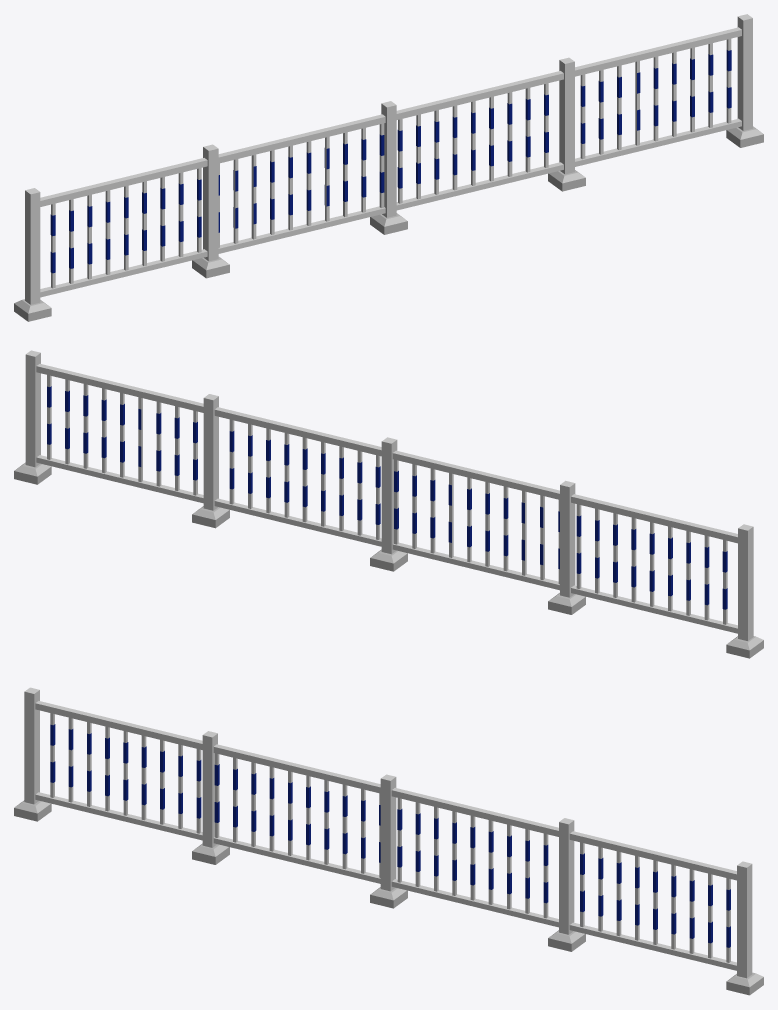
The model's file is weilanlanse.fbx.
3 views of the same model, one above another, from view 1: azimuth 30°, elevation 25°; view 2: azimuth 150°, elevation 25°; view 3: azimuth 330°, elevation 25° (orthographic).
Parts seen in each view (by area): view 1: Rectangle6473, Rectangle6472, Rectangle6474, Rectangle6348, Rectangle6350, Rectangle6351, Rectangle6349, Rectangle6475, Rectangle6359, Rectangle6355, Rectangle6356, Rectangle6357; view 2: Rectangle6473, Rectangle6472, Rectangle6474, Rectangle6350, Rectangle6351, Rectangle6348, Rectangle6349, Rectangle6475, Rectangle6359, Rectangle6355, Rectangle6356, Rectangle6357; view 3: Rectangle6473, Rectangle6472, Rectangle6349, Rectangle6351, Rectangle6474, Rectangle6350, Rectangle6348, Rectangle6359, Rectangle6355, Rectangle6475, Rectangle6356, Rectangle6357.
Boxes of the visible parts, left/top/right/bottom form: Rectangle6473: left=40, top=27, right=741, bottom=206; Rectangle6472: left=40, top=118, right=741, bottom=297; Rectangle6474: left=25, top=188, right=40, bottom=304; Rectangle6348: left=203, top=144, right=218, bottom=261; Rectangle6350: left=559, top=57, right=574, bottom=174; Rectangle6351: left=737, top=14, right=752, bottom=130; Rectangle6349: left=381, top=101, right=396, bottom=217; Rectangle6475: left=14, top=299, right=51, bottom=321; Rectangle6359: left=726, top=126, right=763, bottom=147; Rectangle6355: left=192, top=257, right=229, bottom=278; Rectangle6356: left=370, top=213, right=407, bottom=234; Rectangle6357: left=548, top=170, right=585, bottom=191; Rectangle6473: left=36, top=363, right=737, bottom=543; Rectangle6472: left=36, top=455, right=737, bottom=633; Rectangle6474: left=738, top=524, right=753, bottom=640; Rectangle6350: left=203, top=394, right=218, bottom=510; Rectangle6351: left=25, top=350, right=40, bottom=467; Rectangle6348: left=560, top=480, right=575, bottom=597; Rectangle6349: left=381, top=437, right=397, bottom=554; Rectangle6475: left=726, top=636, right=763, bottom=658; Rectangle6359: left=14, top=462, right=51, bottom=484; Rectangle6355: left=548, top=593, right=585, bottom=614; Rectangle6356: left=370, top=549, right=407, bottom=571; Rectangle6357: left=192, top=506, right=229, bottom=528; Rectangle6473: left=35, top=701, right=736, bottom=880; Rectangle6472: left=35, top=792, right=736, bottom=970; Rectangle6349: left=380, top=774, right=396, bottom=891; Rectangle6351: left=737, top=861, right=752, bottom=978; Rectangle6474: left=24, top=687, right=39, bottom=804; Rectangle6350: left=559, top=818, right=574, bottom=934; Rectangle6348: left=202, top=731, right=217, bottom=847; Rectangle6359: left=726, top=972, right=763, bottom=995; Rectangle6355: left=192, top=843, right=229, bottom=864; Rectangle6475: left=14, top=800, right=51, bottom=821; Rectangle6356: left=370, top=887, right=407, bottom=908; Rectangle6357: left=548, top=930, right=585, bottom=951.
Size of the model in its own units: 149 by 23.85 by 5.01.
